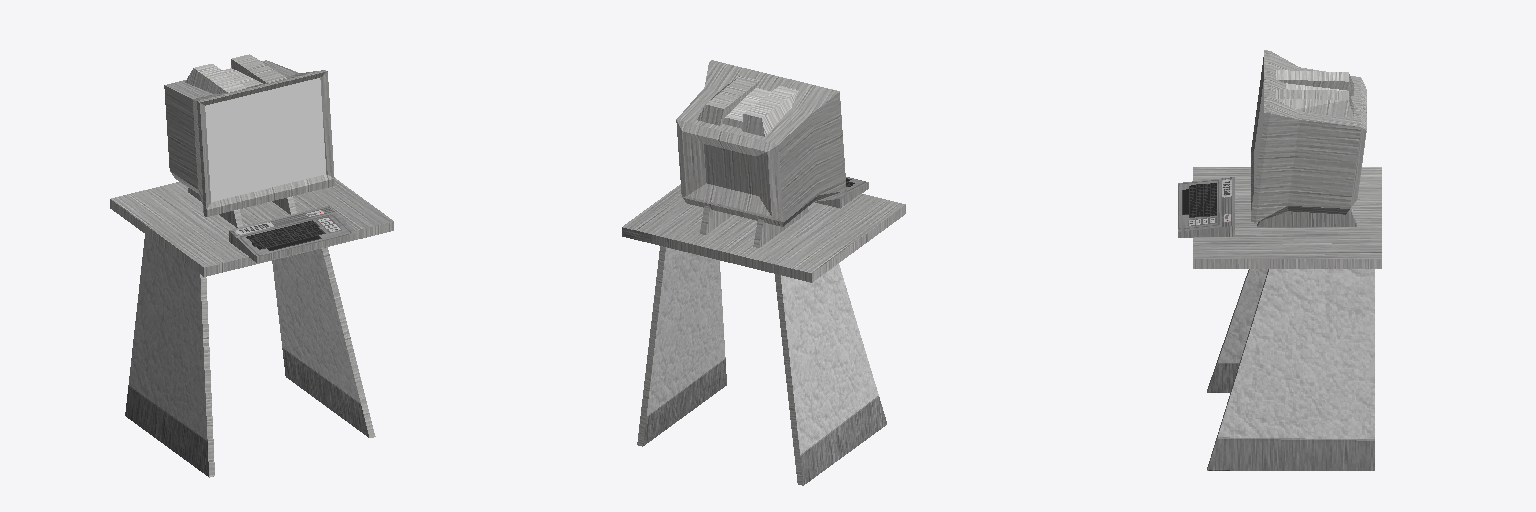
3 views of the same model, side by side, from view 1: azimuth 30°, elevation 25°; view 2: azimuth 150°, elevation 25°; view 3: azimuth 270°, elevation 25° (orthographic).
Parts seen in each view (by area): view 1: Cube_Chassis, Cube.001_Phosphor; view 2: Cube_Chassis; view 3: Cube_Chassis.
Part boxes in pixels (x1,y1,x2,y2): Cube_Chassis: (110, 54, 393, 477); Cube.001_Phosphor: (205, 78, 325, 201); Cube_Chassis: (622, 60, 905, 485); Cube_Chassis: (1178, 50, 1381, 470).
Bounding box in the file's own units: 0.64 × 1.12 × 0.5957.
Materials: 2 (1 with a texture image).